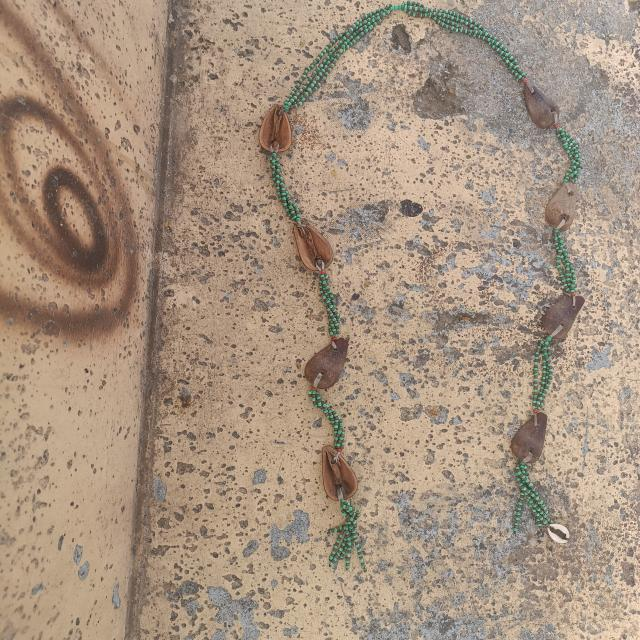facedown: (303, 331, 352, 395), (519, 75, 568, 134), (541, 289, 587, 347), (508, 410, 551, 466), (543, 174, 582, 233)
faceup: (319, 443, 362, 504), (290, 218, 334, 277), (256, 99, 295, 156)
